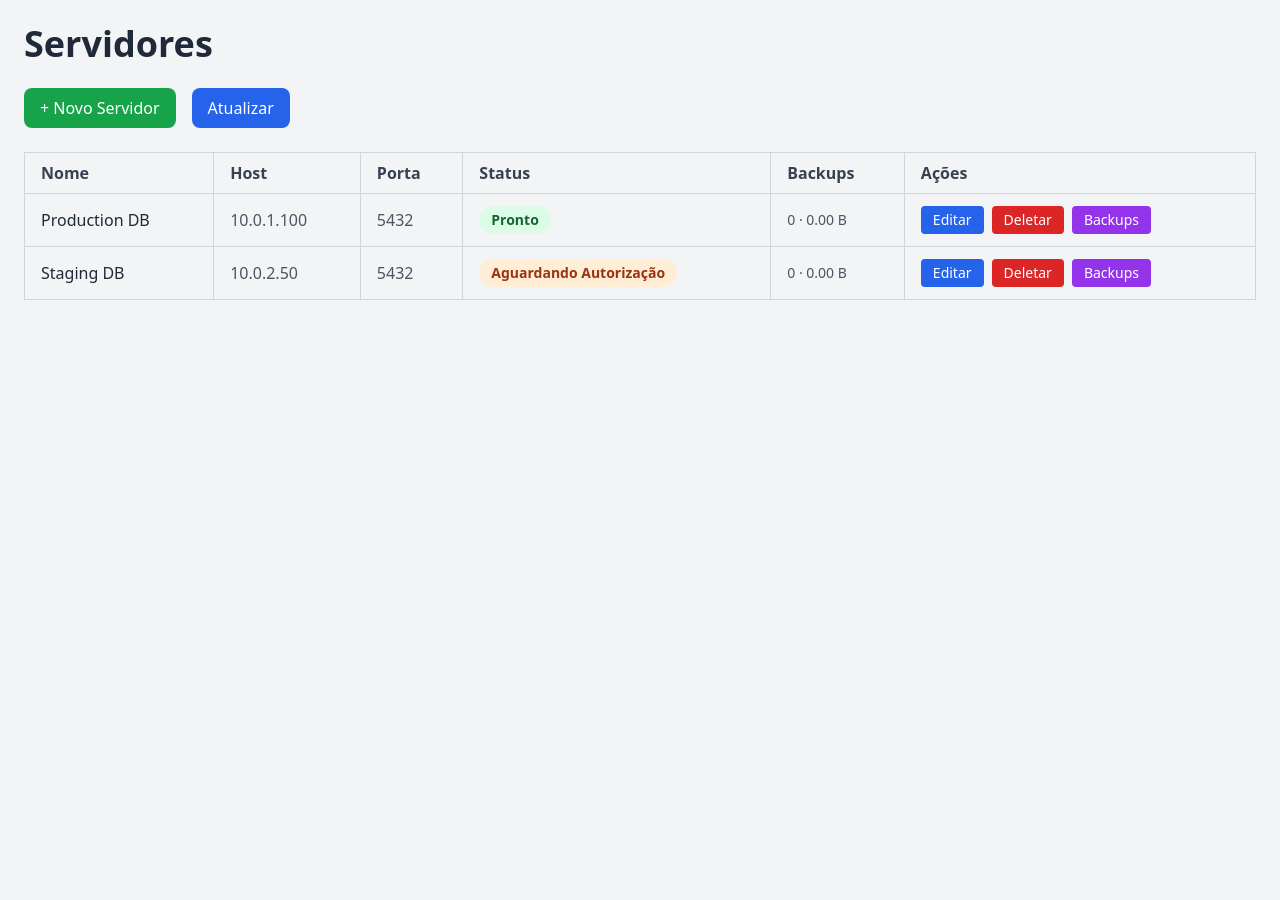
ServersView › should show an error alert when delete fails
Click the button with test id "delete-btn-1": [1028, 220] box [992,206,1064,234]
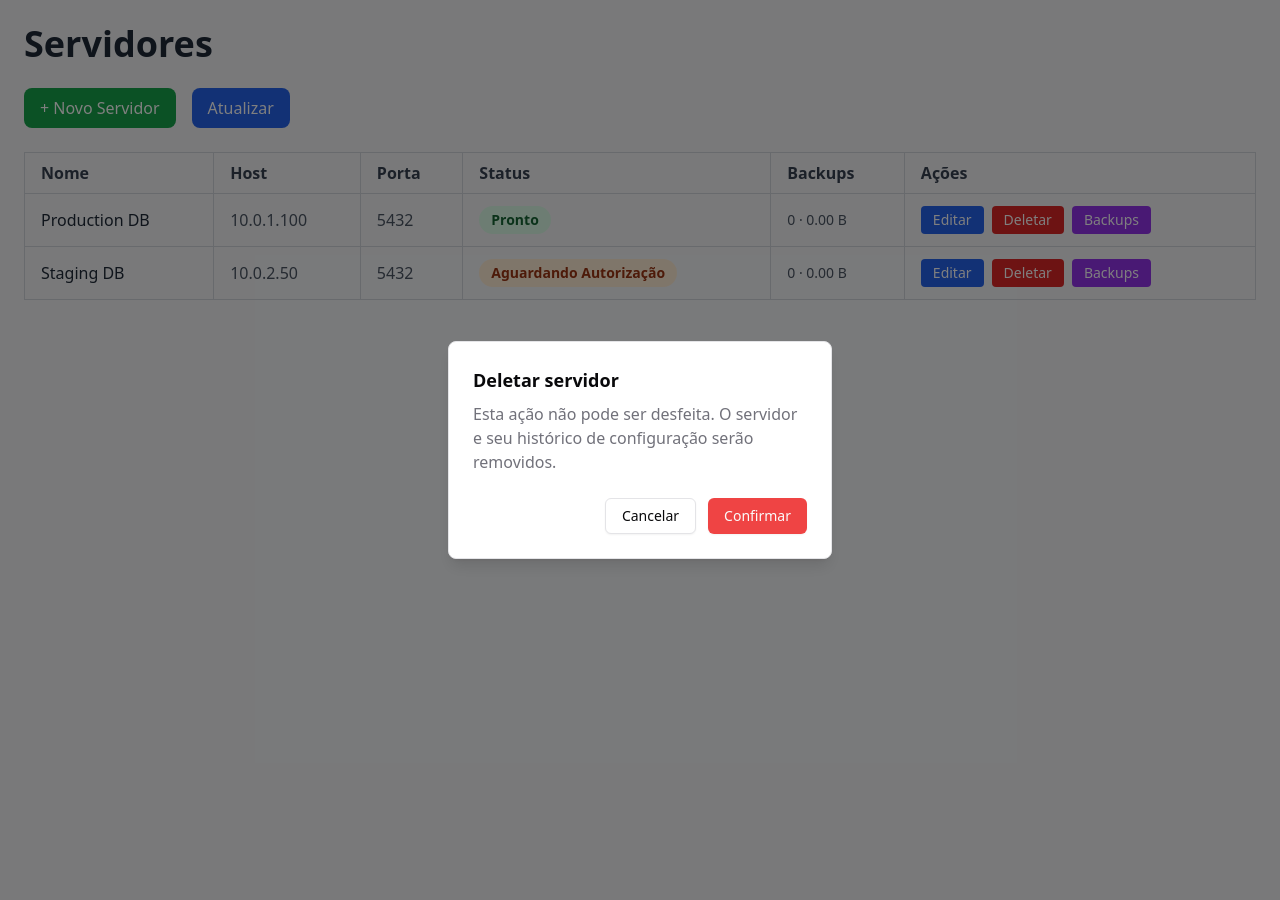
Click the button with test id "confirm-dialog-confirm": [758, 516] box [708,498,807,534]
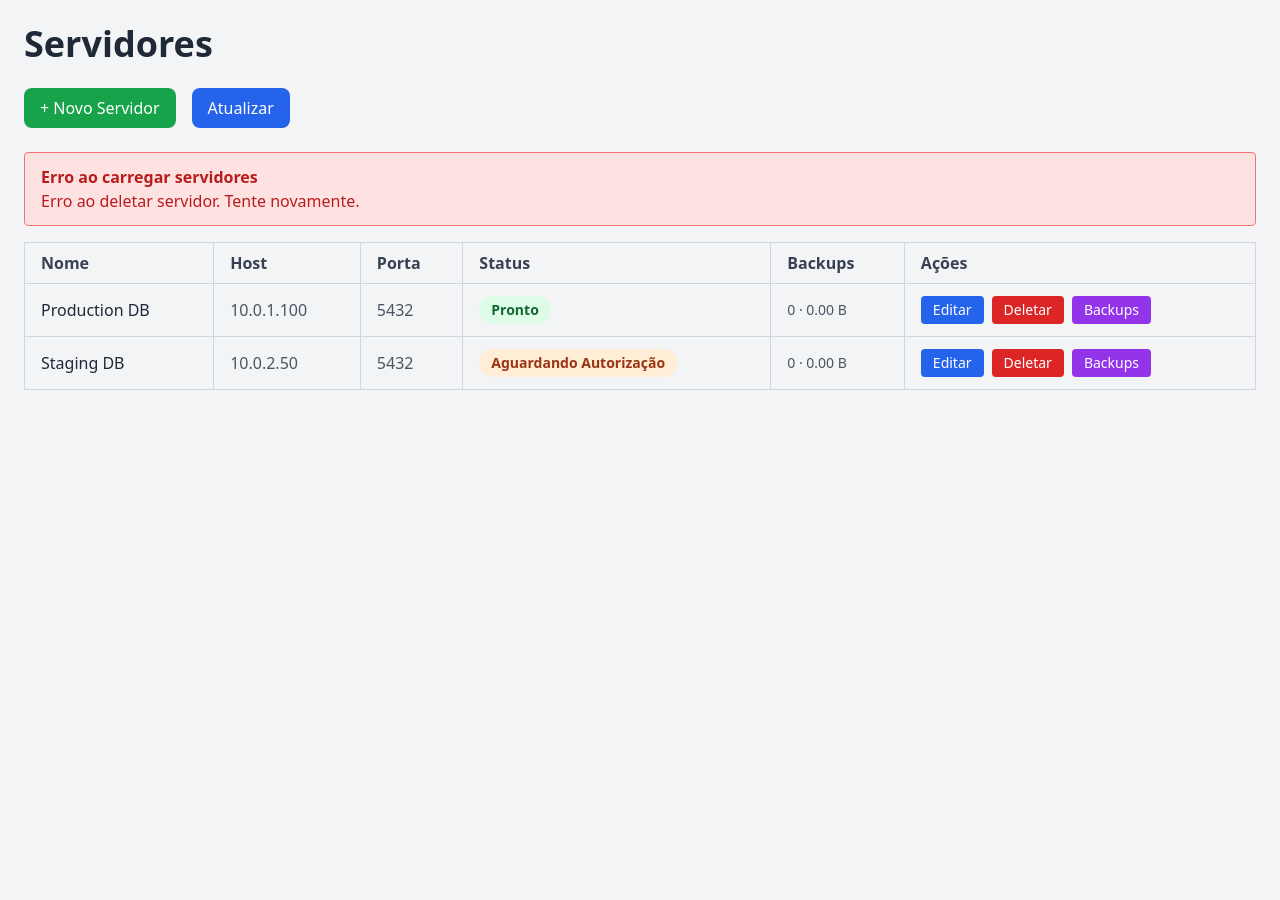
expect the row with test id "server-row-1" is shown: met, box [24,284,1256,336]
expect the message "Erro ao carregar servidores Erro ao deletar servidor. Tente novamente." is shown: met, box [24,152,1256,226]
expect the text "Erro ao deletar servidor" is shown: met, box [41,190,360,212]
